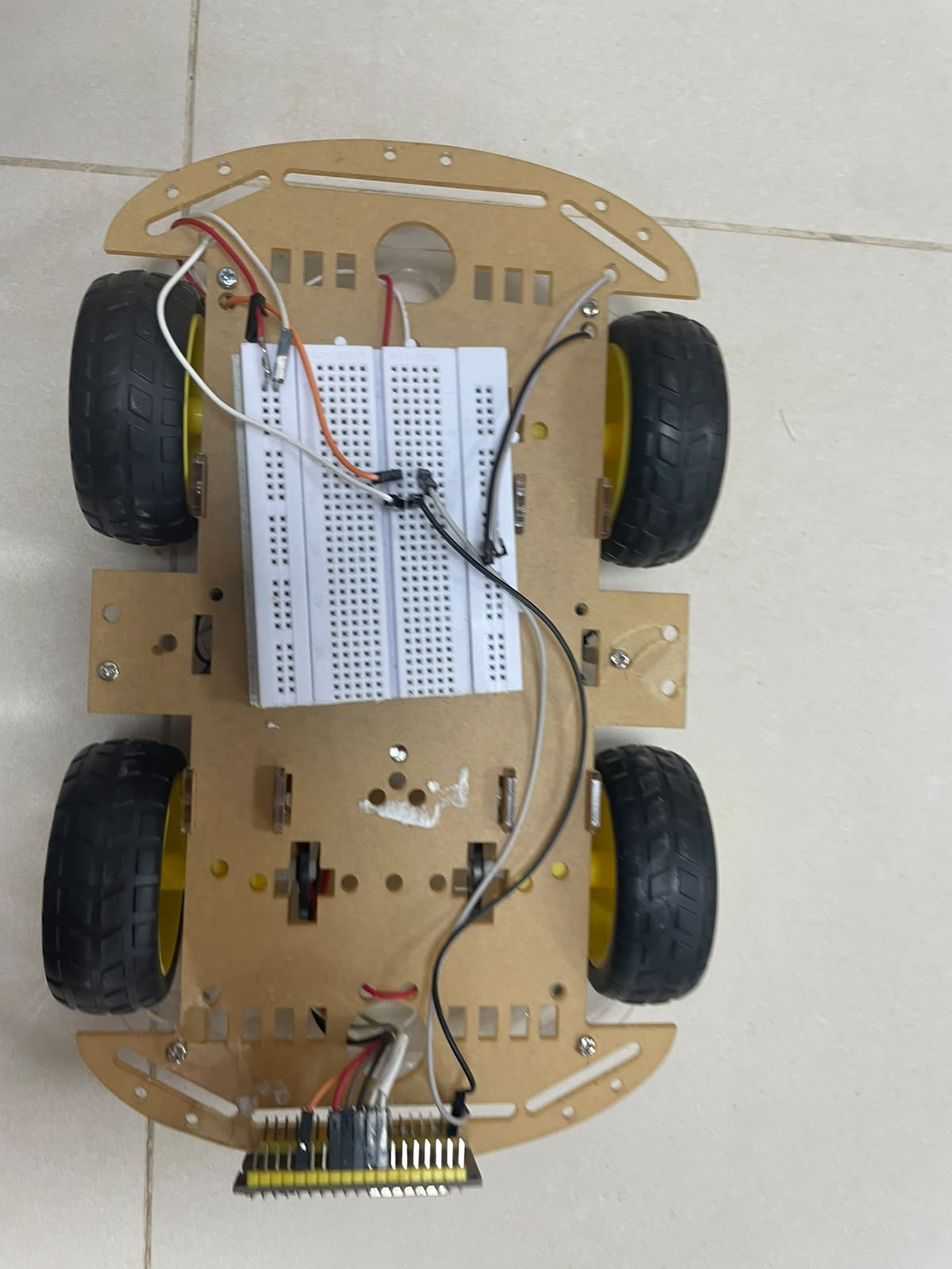Rover-detection: (41, 139, 729, 1199)
